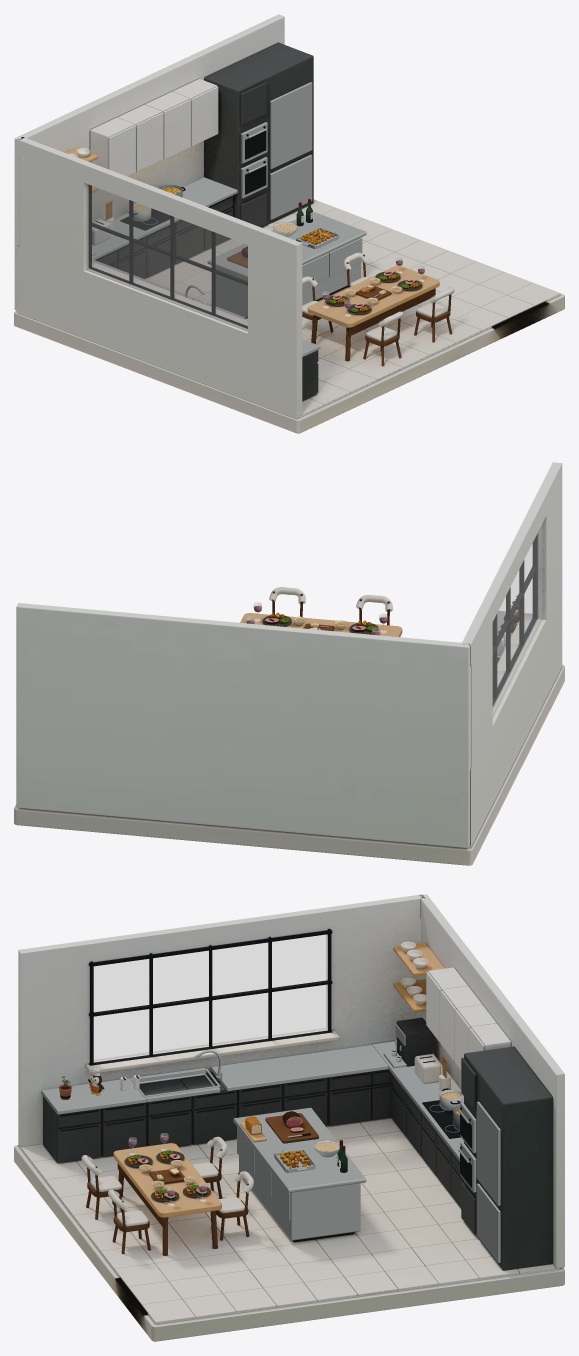
Rendered from social-kitchen.glb.
The picture shows the model from 3 angles, top to bottom: view 1: azimuth 30°, elevation 25°; view 2: azimuth 150°, elevation 25°; view 3: azimuth 270°, elevation 25°; orthographic projection. The views are drawn at different scales.
Visible parts, largest first — view 1: Baked social-kitchen architecture, Baked social-kitchen details, Live glass and reflective metal; view 2: Baked social-kitchen architecture, Live glass and reflective metal, Baked social-kitchen details; view 3: Baked social-kitchen architecture, Baked social-kitchen details, Live glass and reflective metal.
Boxes of the visible parts, bbox=[...] form: Baked social-kitchen architecture: bbox=[14, 14, 564, 433]; Baked social-kitchen details: bbox=[68, 82, 560, 417]; Live glass and reflective metal: bbox=[86, 82, 424, 357]; Baked social-kitchen architecture: bbox=[14, 462, 564, 865]; Live glass and reflective metal: bbox=[246, 524, 542, 716]; Baked social-kitchen details: bbox=[246, 587, 519, 652]; Baked social-kitchen architecture: bbox=[14, 894, 564, 1341]; Baked social-kitchen details: bbox=[19, 941, 555, 1323]; Live glass and reflective metal: bbox=[41, 934, 500, 1262].
Size of the model in its own units: 18.65 by 7.72 by 18.27.
7 materials, 2 textured.
